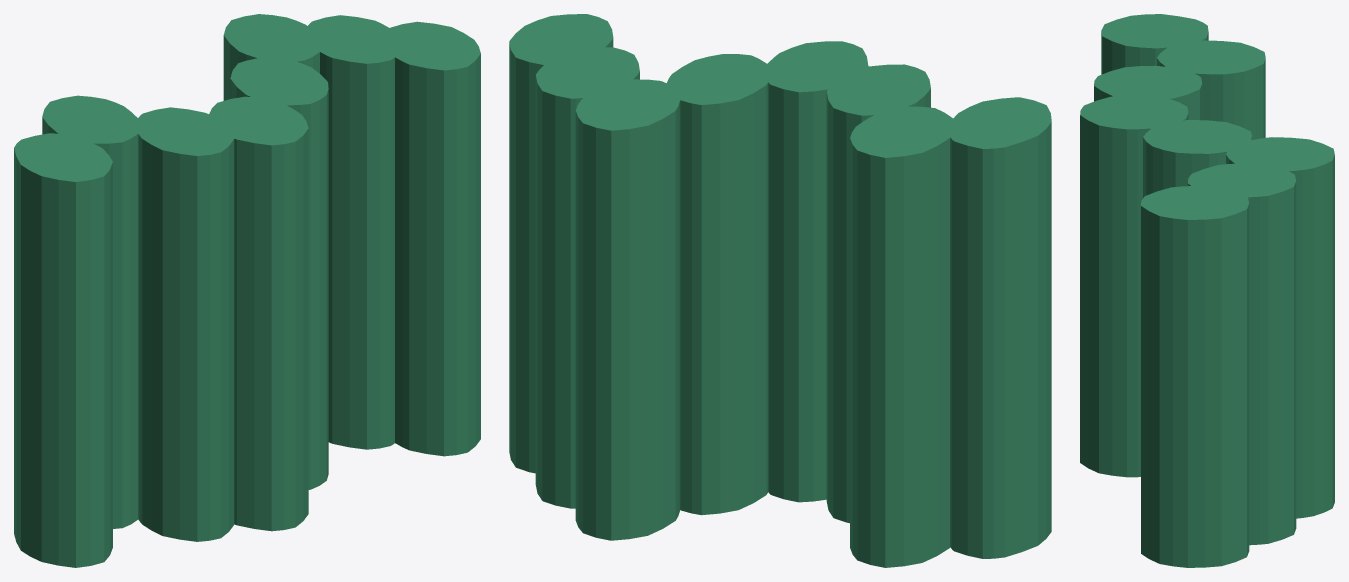
3 renders of one model, left to right at view 1: azimuth 30°, elevation 25°; view 2: azimuth 150°, elevation 25°; view 3: azimuth 270°, elevation 25°, orthographic. The views are drawn at different scales.
Parts seen in each view (by area): view 1: Mesh_Mesh_head_geo.001_lambert2SG.001; view 2: Mesh_Mesh_head_geo.001_lambert2SG.001; view 3: Mesh_Mesh_head_geo.001_lambert2SG.001.
Boxes of the visible parts, x1,y1,x2,y2 form: Mesh_Mesh_head_geo.001_lambert2SG.001: [14, 14, 480, 567]; Mesh_Mesh_head_geo.001_lambert2SG.001: [509, 14, 1051, 567]; Mesh_Mesh_head_geo.001_lambert2SG.001: [1080, 14, 1334, 567].
Size of the model in its own units: 0.0127 by 0.01 by 0.00664.
